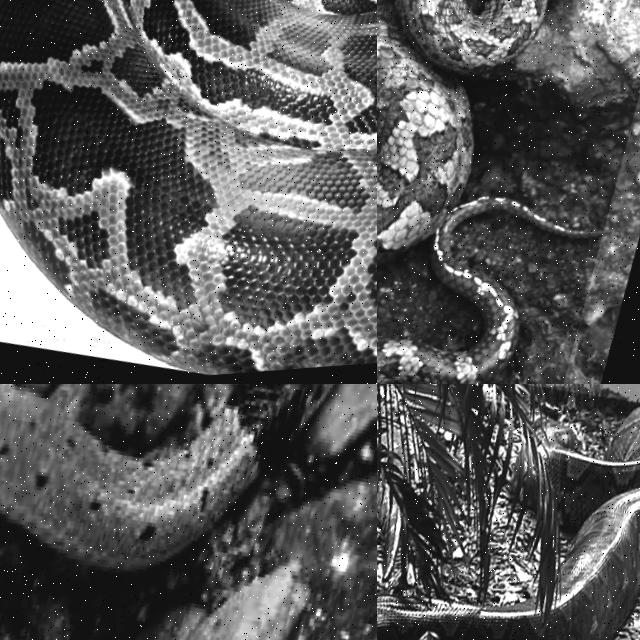Calliophis maculiceps: (0, 384, 332, 571)
Malayopython reticulatus: (377, 409, 639, 639)
Ovophis monticola: (377, 0, 601, 383)
Python bivittatus: (0, 0, 376, 374)
snake: (0, 0, 376, 374), (377, 0, 601, 383), (0, 384, 332, 571), (377, 409, 639, 639)
